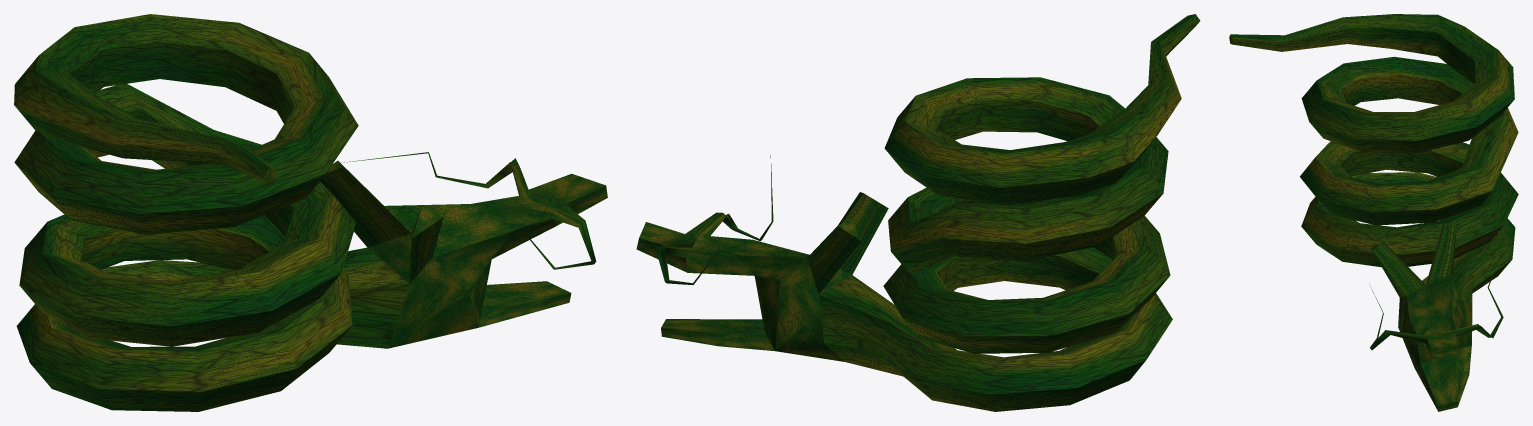
The model's file is goalShen.fbx.
The picture shows the model from 3 angles, left to right: view 1: azimuth 30°, elevation 25°; view 2: azimuth 150°, elevation 25°; view 3: azimuth 270°, elevation 25°; orthographic projection. The views are drawn at different scales.
Parts seen in each view (by area): view 1: pHelix1; view 2: pHelix1; view 3: pHelix1.
Boxes of the visible parts, bbox=[...] form: pHelix1: bbox=[14, 14, 607, 411]; pHelix1: bbox=[636, 14, 1200, 411]; pHelix1: bbox=[1229, 14, 1518, 411].
Size of the model in its own units: 25.14 by 14.96 by 16.83.
Materials: 1 (1 with a texture image).
